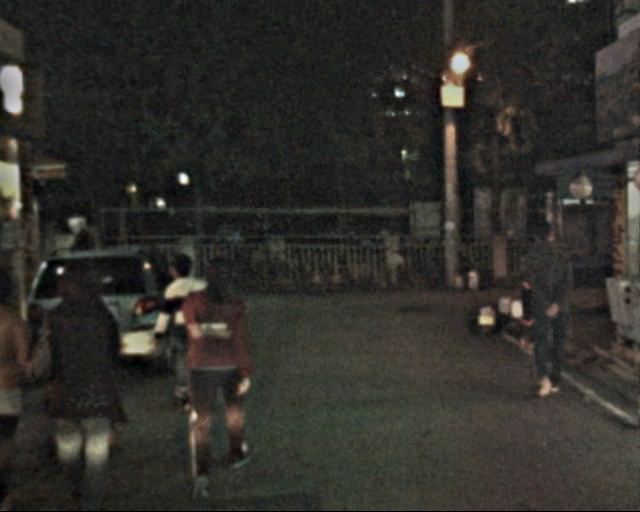person: (29, 245, 130, 505), (163, 244, 256, 487), (509, 209, 578, 406), (147, 241, 211, 421)
